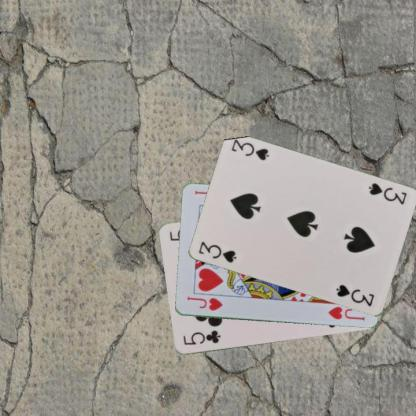3s: (365, 180, 408, 206), (196, 239, 238, 264)
5c: (180, 328, 222, 346)
Jh: (184, 294, 224, 313)
